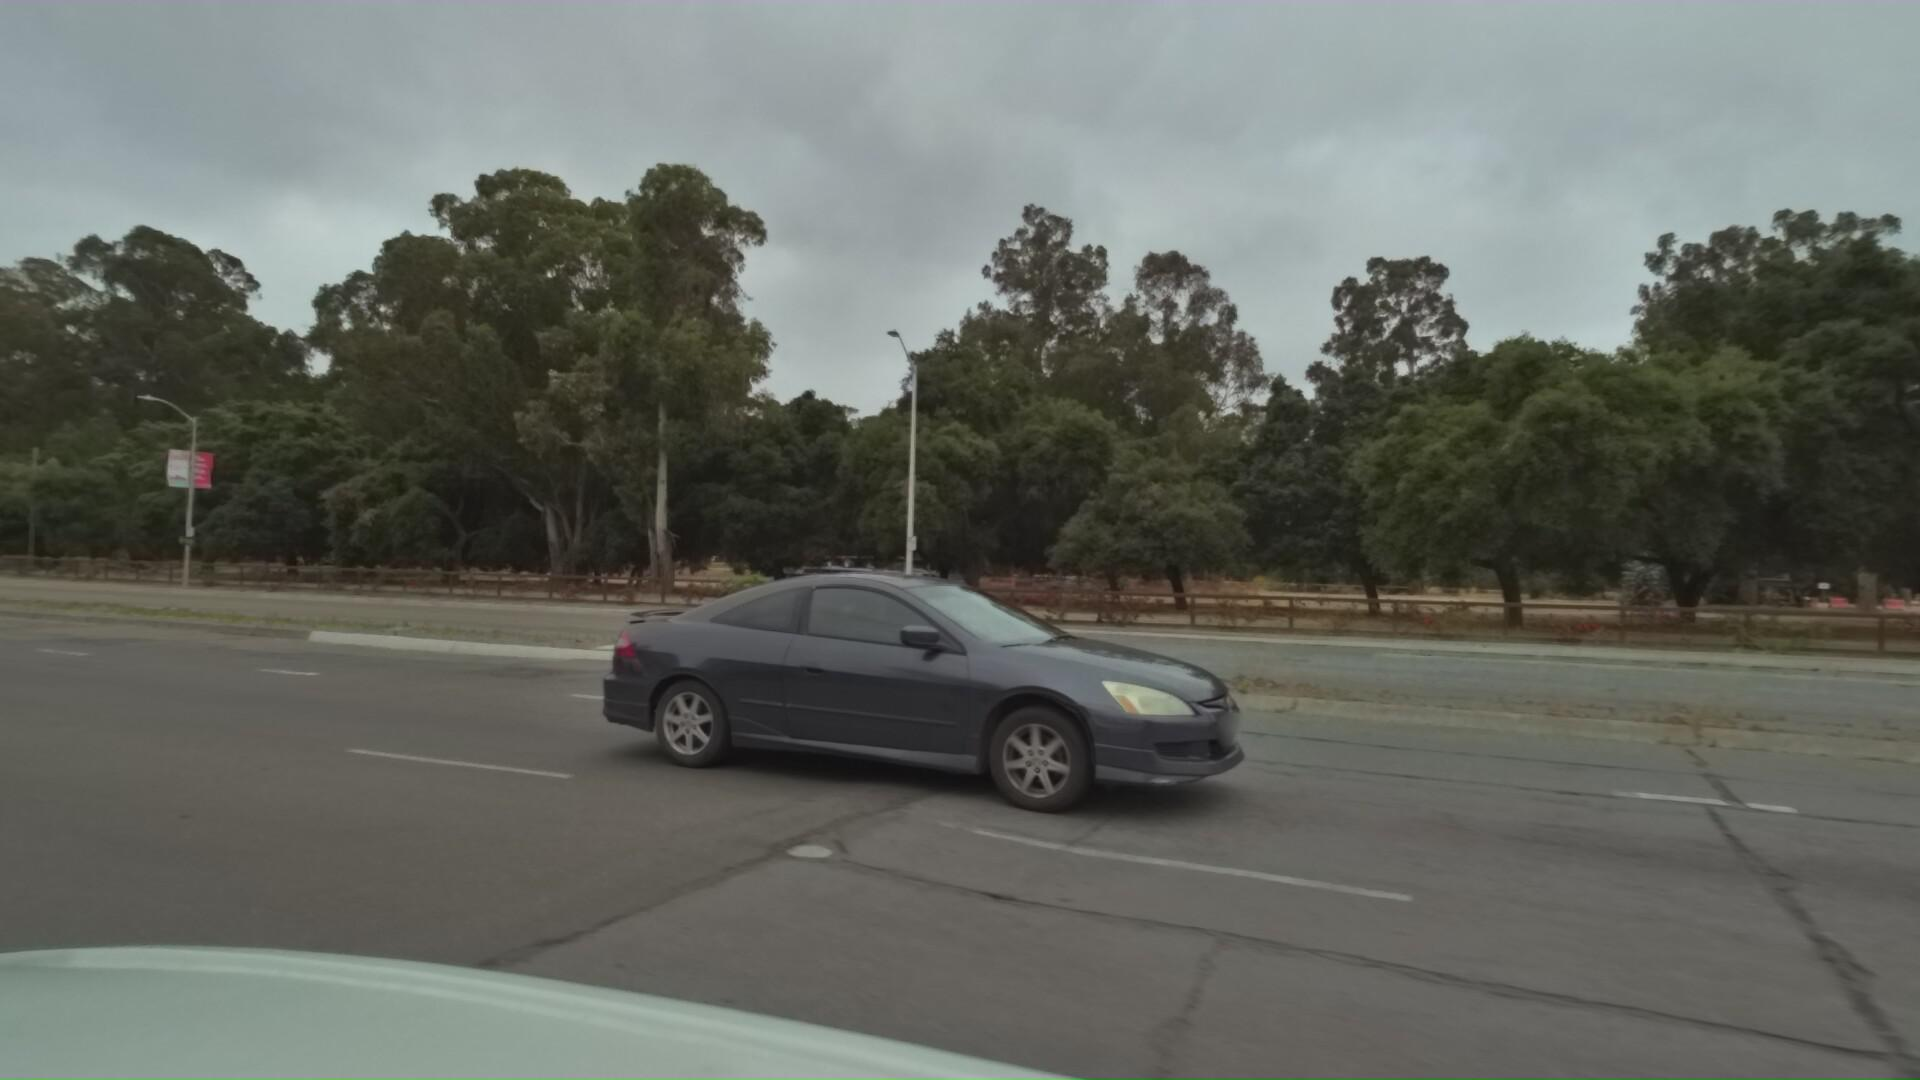car: (566, 559, 1299, 862)
